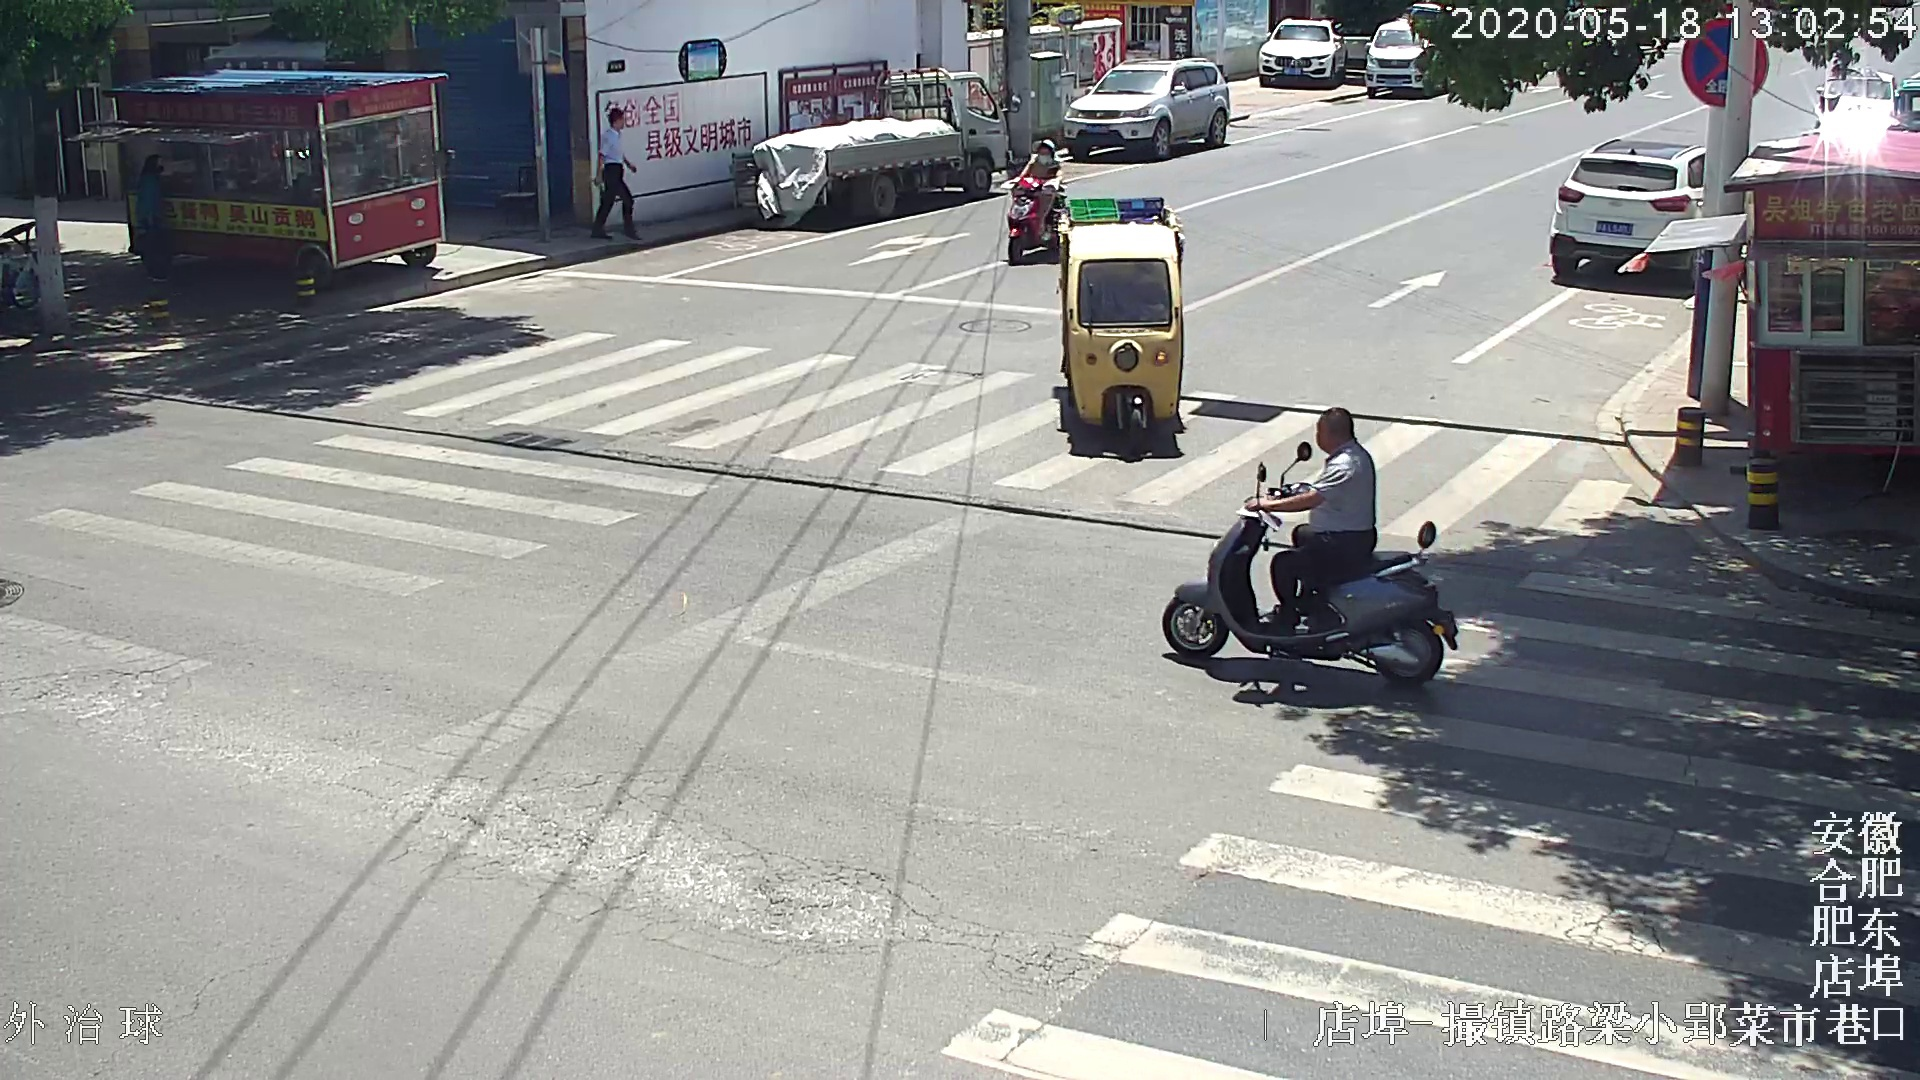non-vehicle: (1180, 495, 1457, 680), (1005, 170, 1069, 257)
